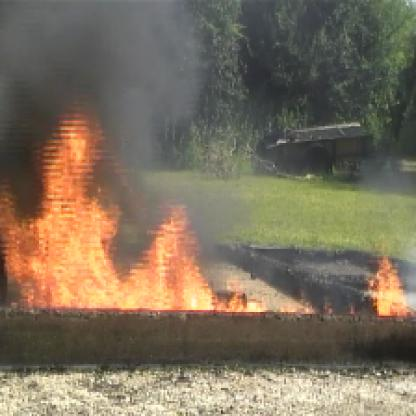Fire: (2, 95, 264, 316), (359, 256, 414, 323)
Smoke: (2, 2, 165, 111)
